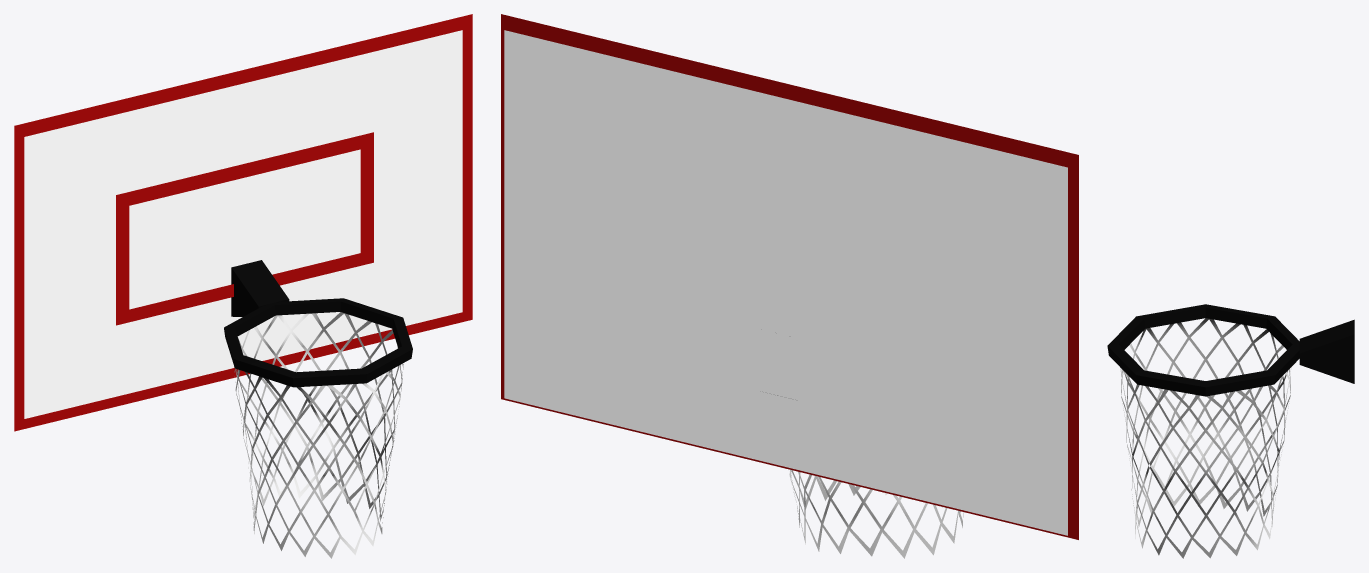
The model's file is Basketball_Hoop.glb.
3 renders of one model, left to right at view 1: azimuth 30°, elevation 25°; view 2: azimuth 150°, elevation 25°; view 3: azimuth 270°, elevation 25°, orthographic. The views are drawn at different scales.
Visible parts, largest first — view 1: basketBallHoop; view 2: basketBallHoop; view 3: basketBallHoop.
Part boxes in pixels (box(x1,y1,x2,y2)): basketBallHoop: box(14, 14, 472, 558); basketBallHoop: box(501, 14, 1078, 558); basketBallHoop: box(1107, 304, 1354, 558).
Size of what is drawn, in the model's own units: 1.95 by 1.66 by 0.9058.
Materials: 1 (1 with a texture image).
